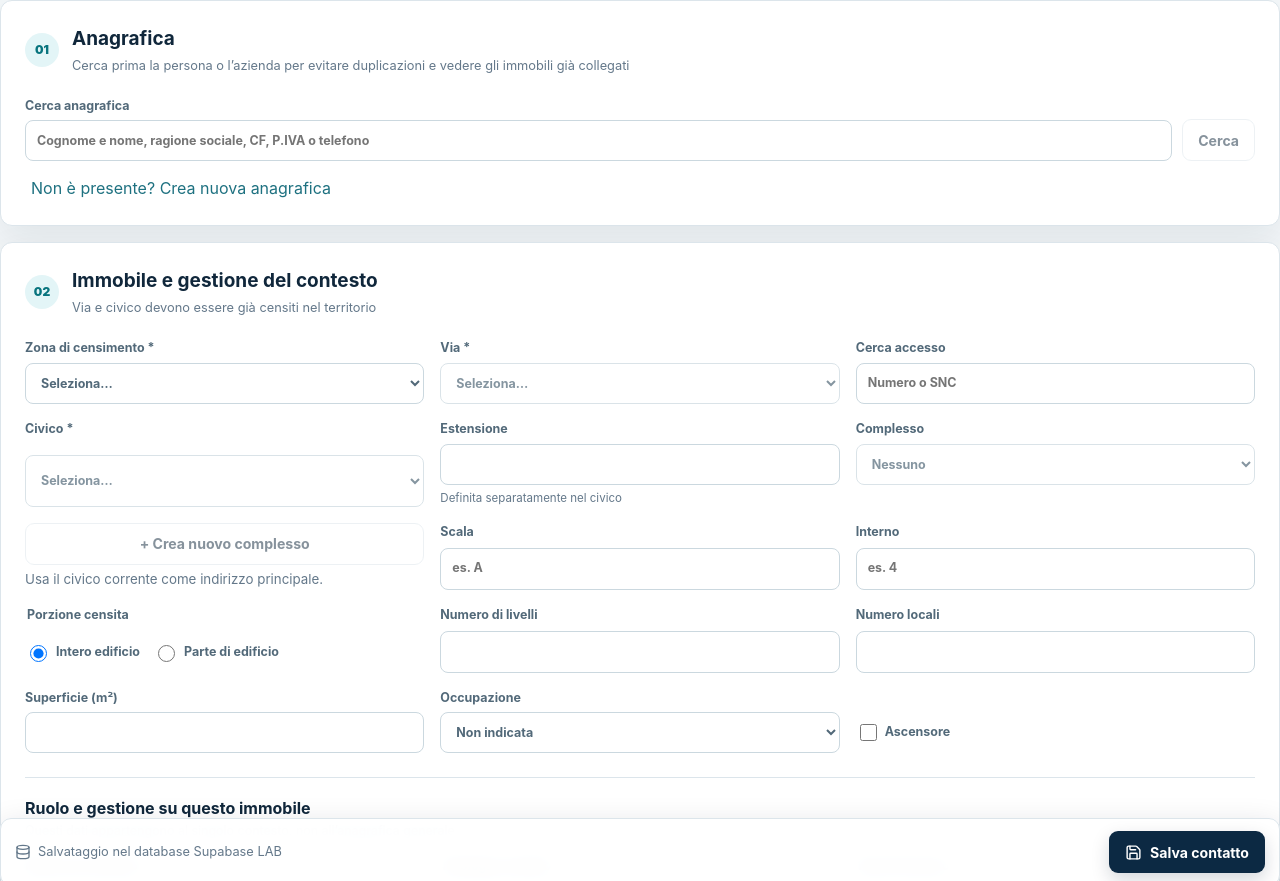
Test case: contact form › searches the registry on demand in database mode
Type "Lovelace Ada" into the field labelled "Cerca anagrafica". click: coordinates (599, 141)
box: [25,120,1172,161]
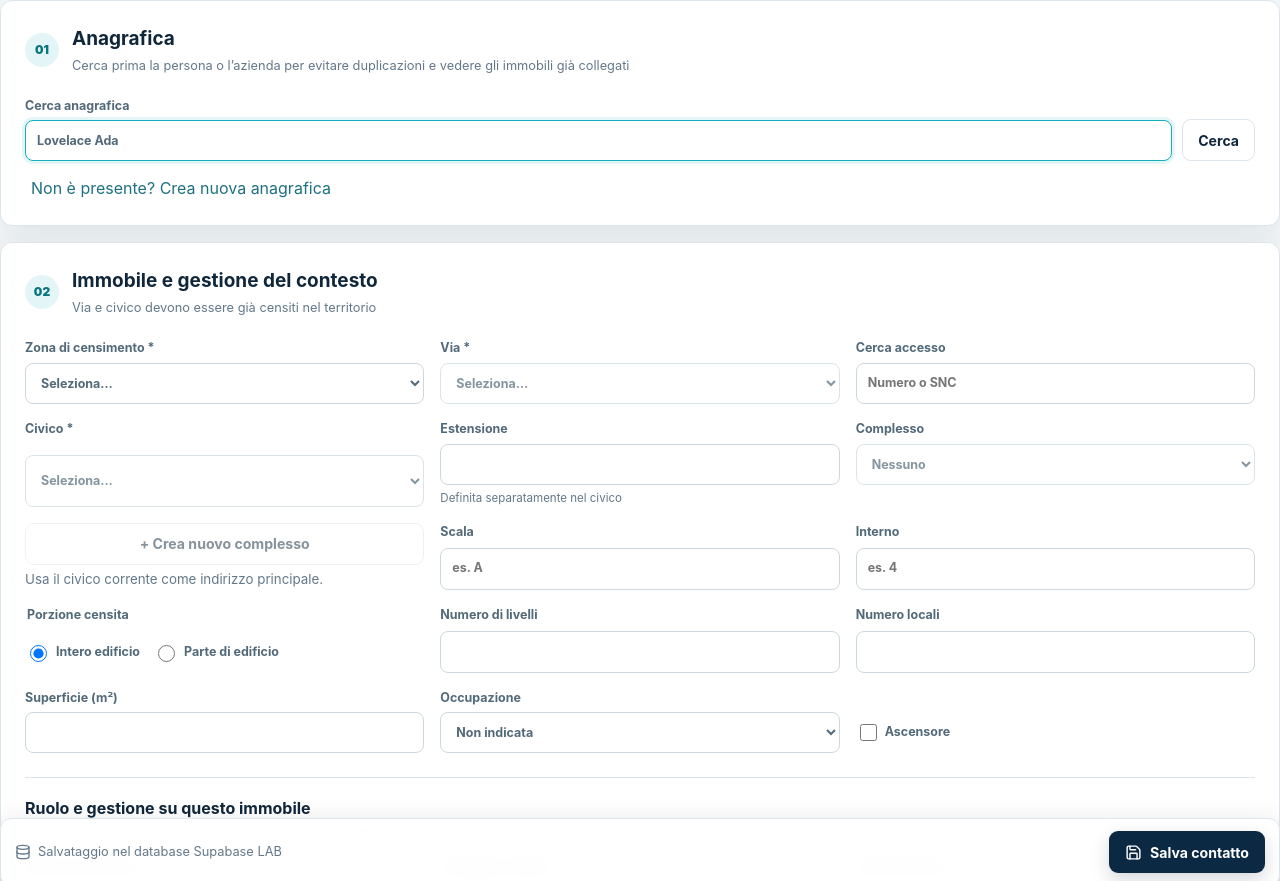
Click the button "Cerca". click: coordinates (1219, 140)
box: [1182,119,1255,161]
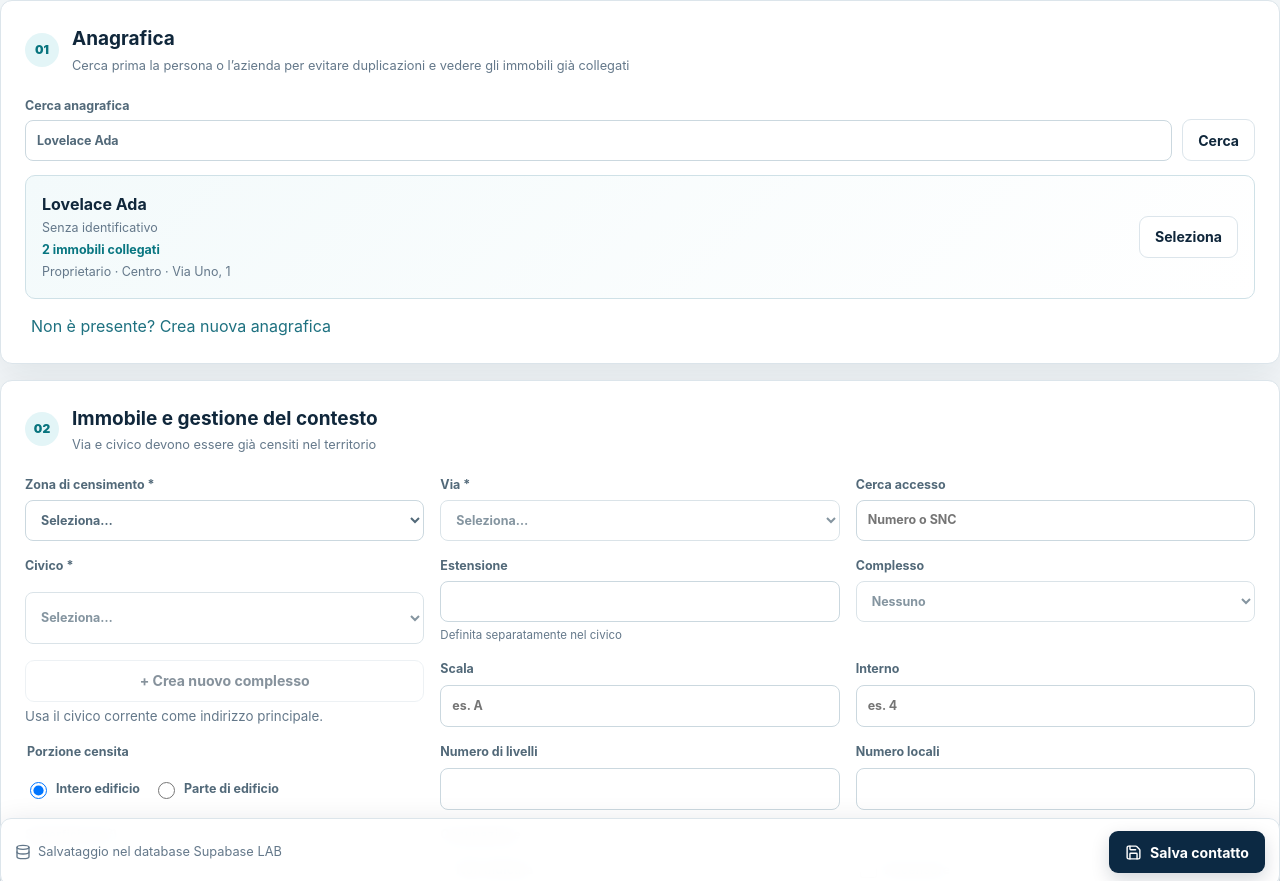
Now the text "Lovelace Ada" is shown, box [42,194,147,214]
Now the text "2 immobili collegati" is shown, box [42,242,160,257]
Click the button "Seleziona". click: coordinates (1188, 237)
box: [1139,216,1238,258]
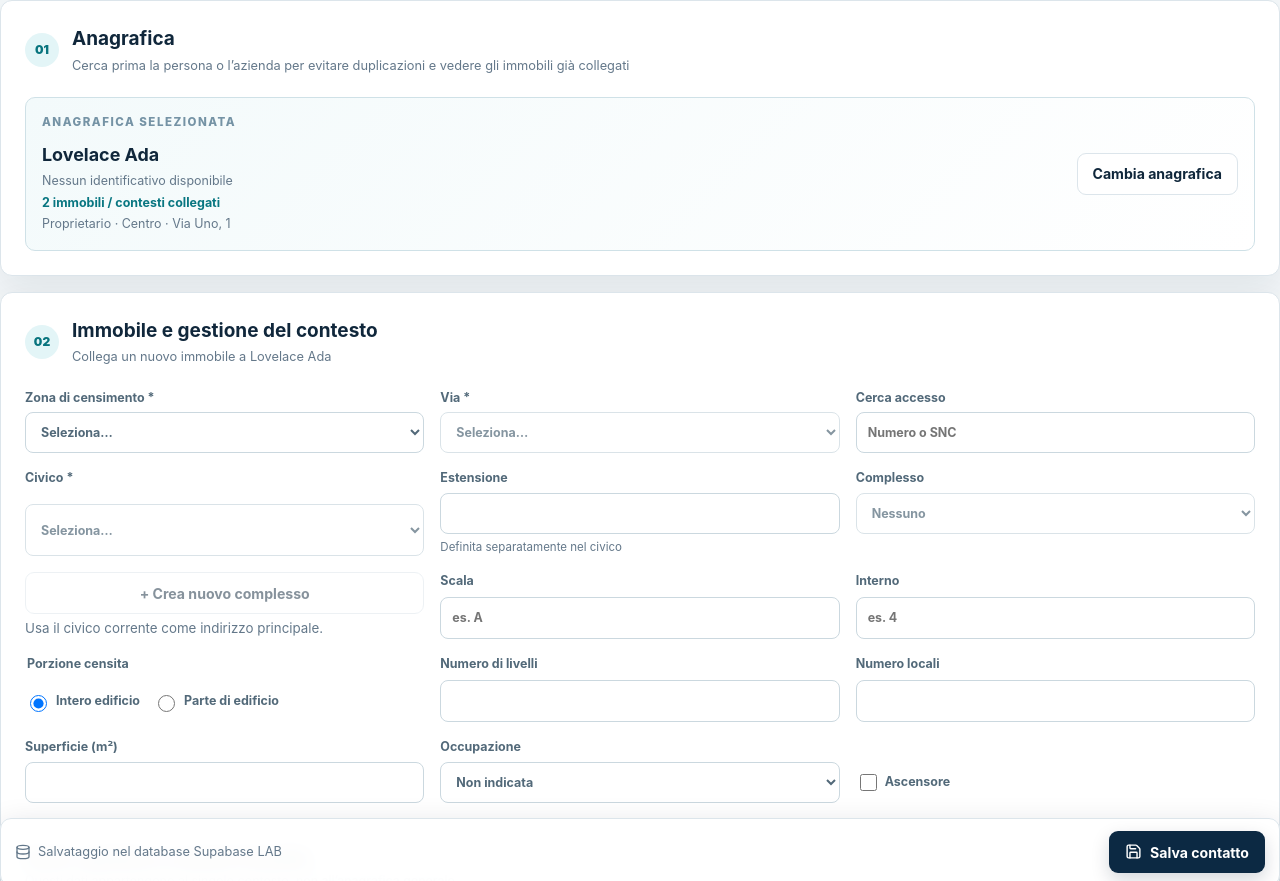
Now the text "Anagrafica selezionata" is shown, box [42,114,236,131]
